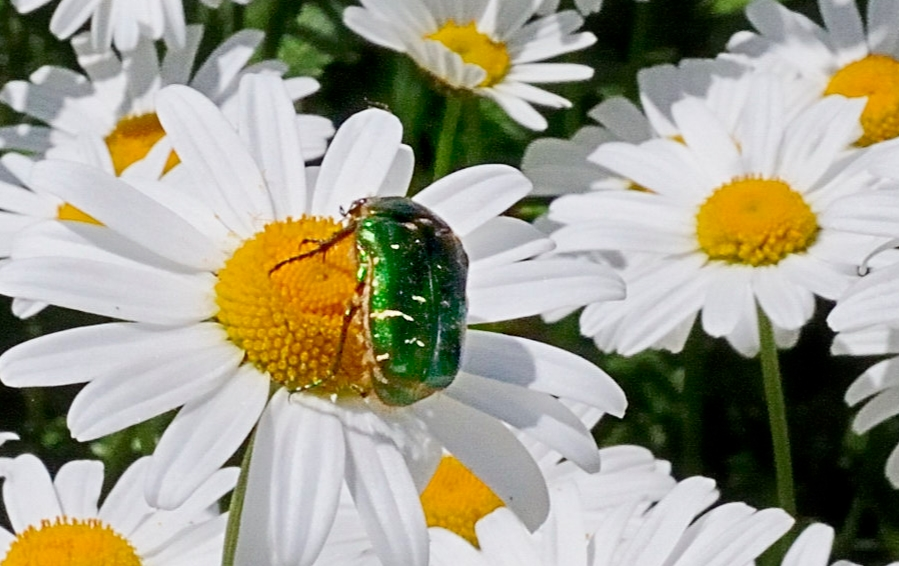Cetonia_aurata: (278, 195, 471, 407)
